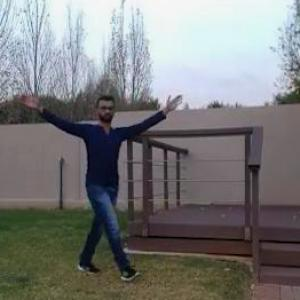takeoff: (23, 98, 177, 282)
